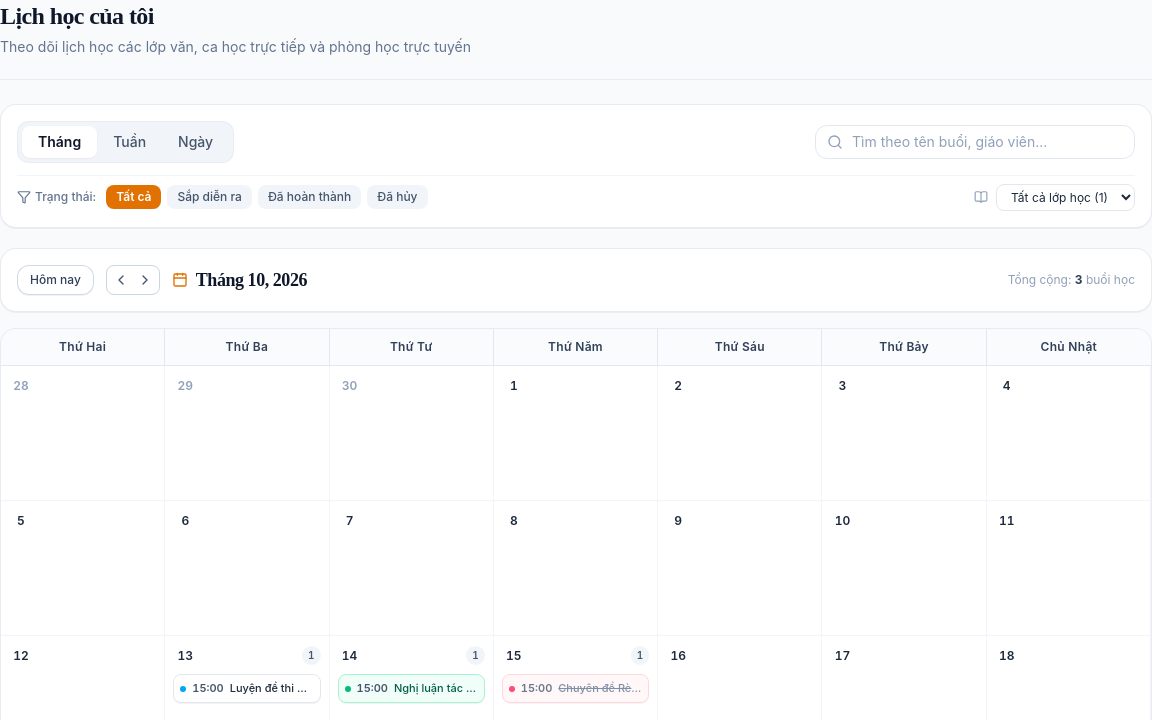
it: StudentSchedulesPage › opens detail modal when clicking a schedule card
Click the text "Luyện đề thi THPT Quốc gia" at (272, 689), box [230, 681, 314, 696]
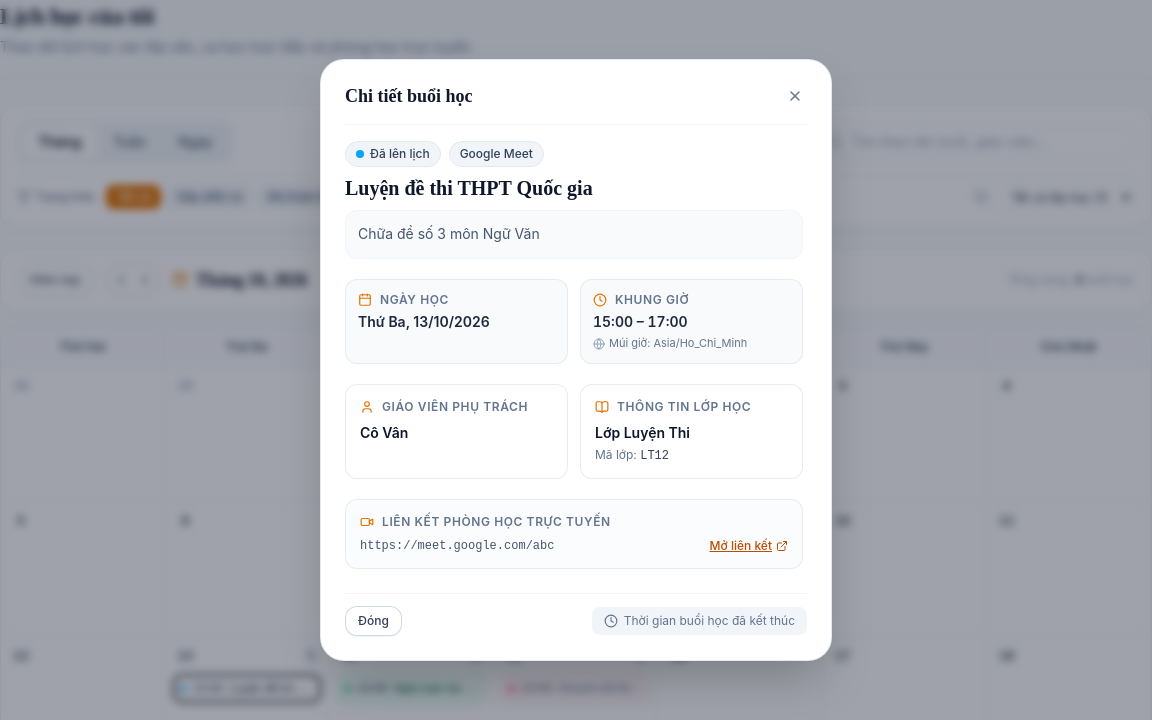
Now the heading "Chi tiết buổi học" is shown, box [345, 84, 472, 108]
